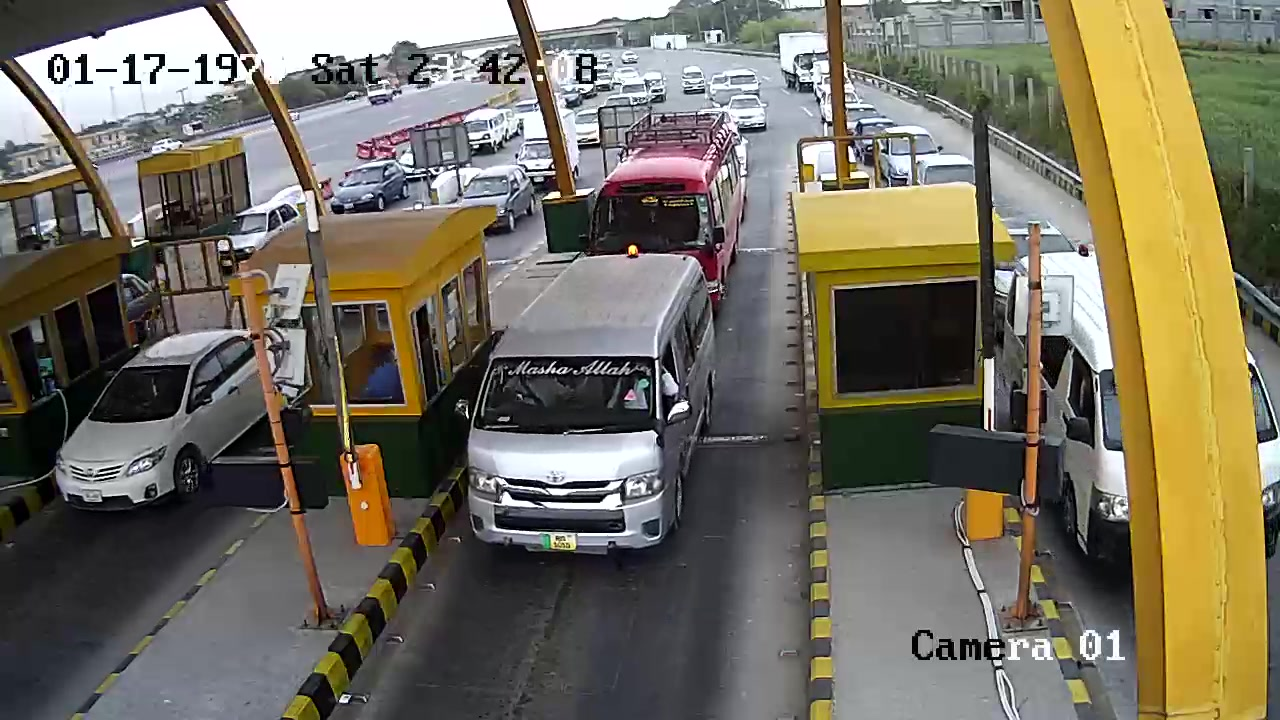F3: (466, 251, 713, 559)
